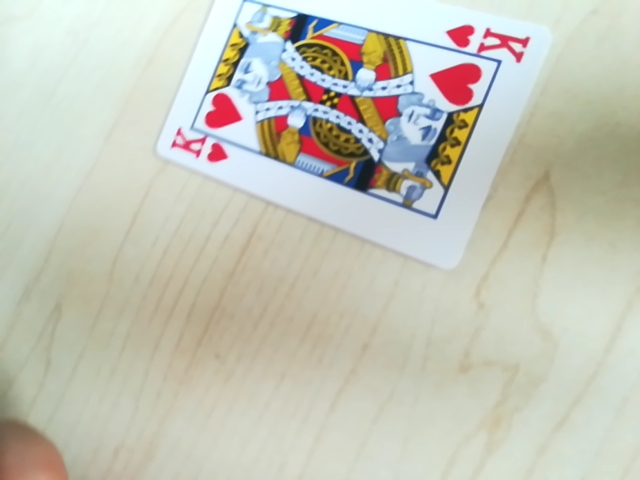hx k: (443, 17, 538, 62), (165, 129, 234, 169)
